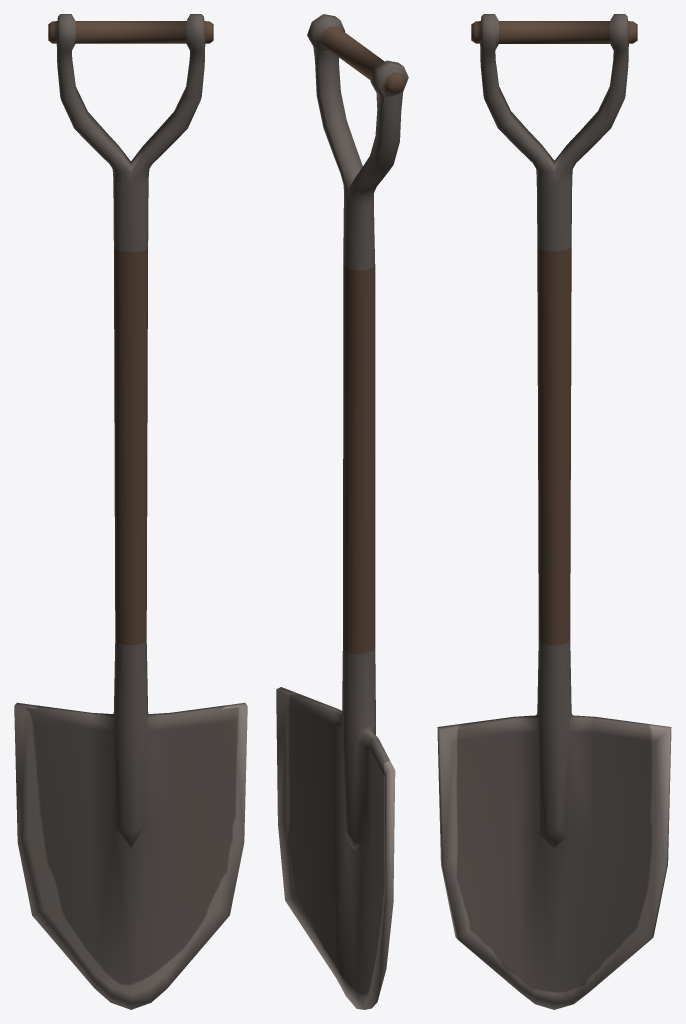
File: SM_Shovel.fbx
The picture shows the model from 3 angles, left to right: view 1: azimuth 90°, elevation 25°; view 2: azimuth 210°, elevation 25°; view 3: azimuth 270°, elevation 25°; orthographic projection. The views are drawn at different scales.
Parts seen in each view (by area): view 1: Shovel; view 2: Shovel; view 3: Shovel.
Part boxes in pixels (<box>): Shovel: <box>14,14,247,1009</box>; Shovel: <box>276,14,408,1009</box>; Shovel: <box>437,14,671,1009</box>.
Size of the model in its own units: 6.66 by 145 by 30.94.
